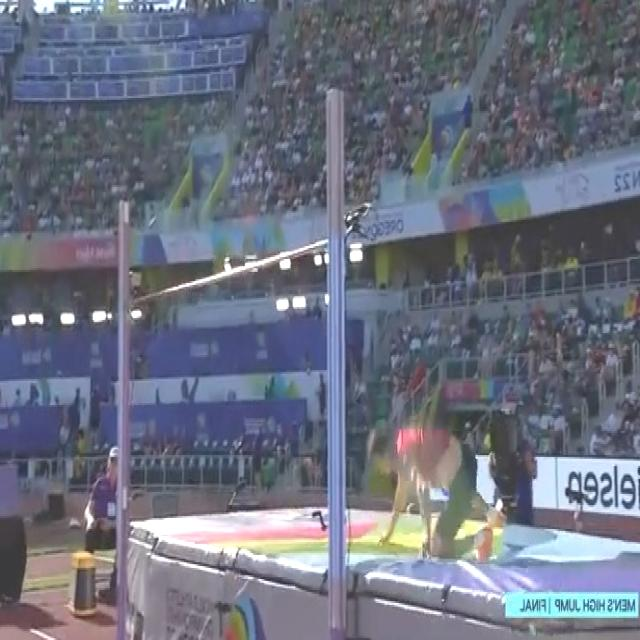land: (367, 412, 509, 569)
